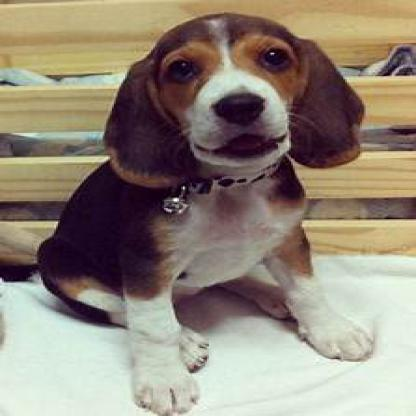dog: (37, 13, 377, 414)
